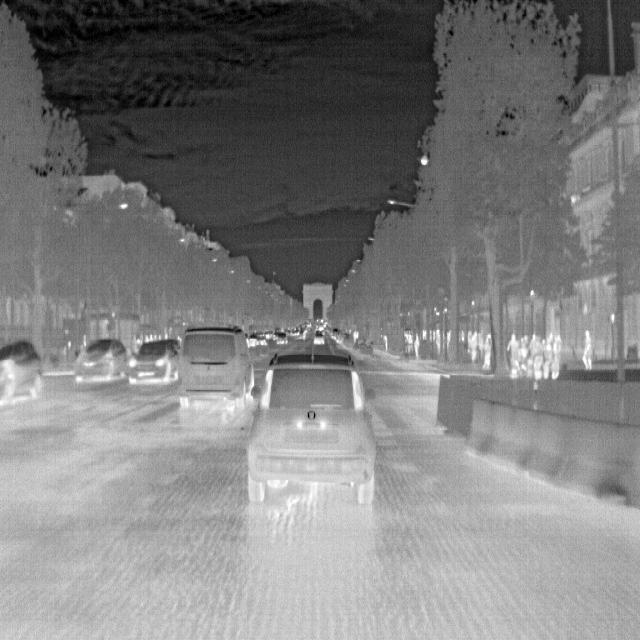Pedestrian: (548, 331, 564, 380), (505, 330, 520, 377), (530, 336, 545, 382), (581, 328, 594, 372), (482, 330, 494, 374)
Vehicle: (243, 337, 380, 508), (177, 324, 256, 409), (0, 337, 45, 408), (72, 335, 128, 384), (127, 335, 181, 385)
